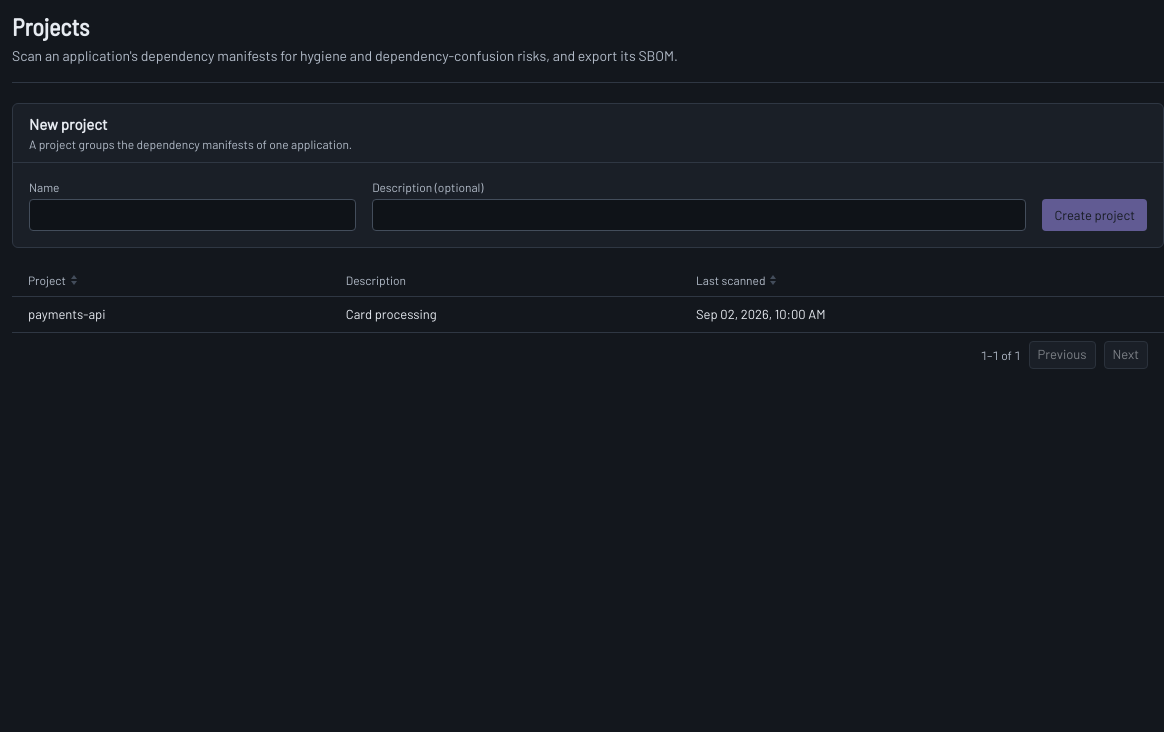
Test: Projects › lists projects and creates one for engineers
In the field labelled "Name": (193, 215) x1=29 y1=199 x2=356 y2=231, type "new-app"
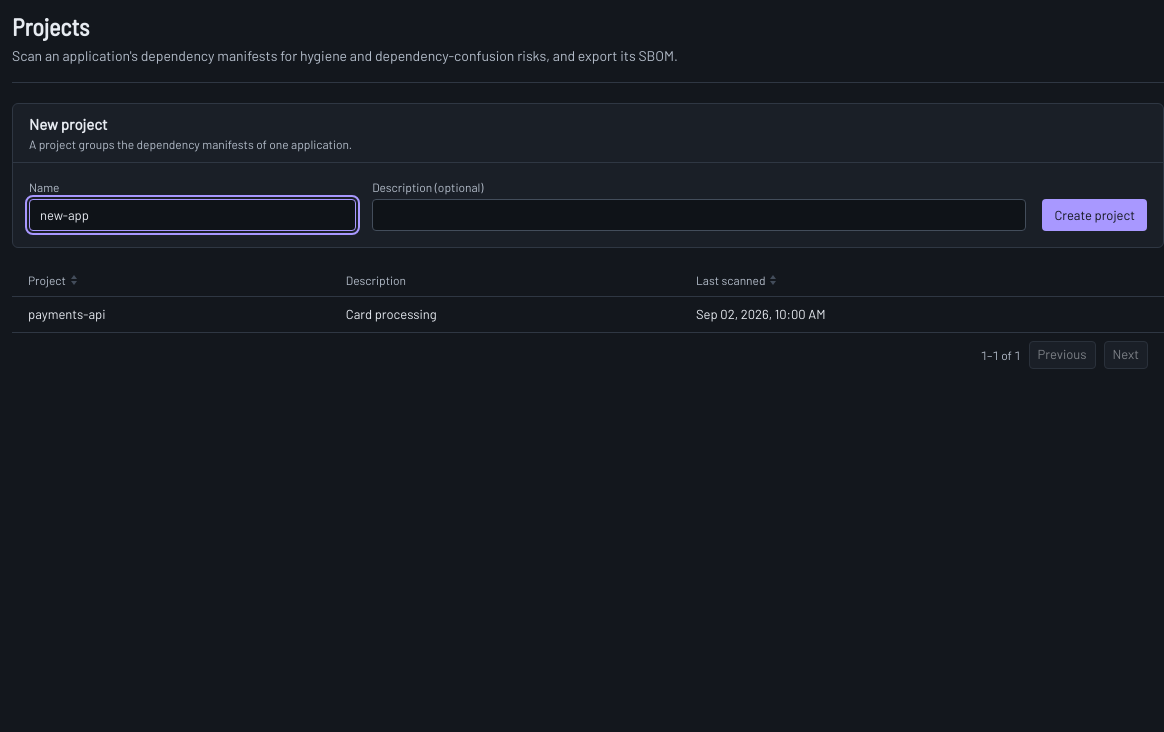
Click the button "Create project": (1095, 215) x1=1042 y1=199 x2=1147 y2=231
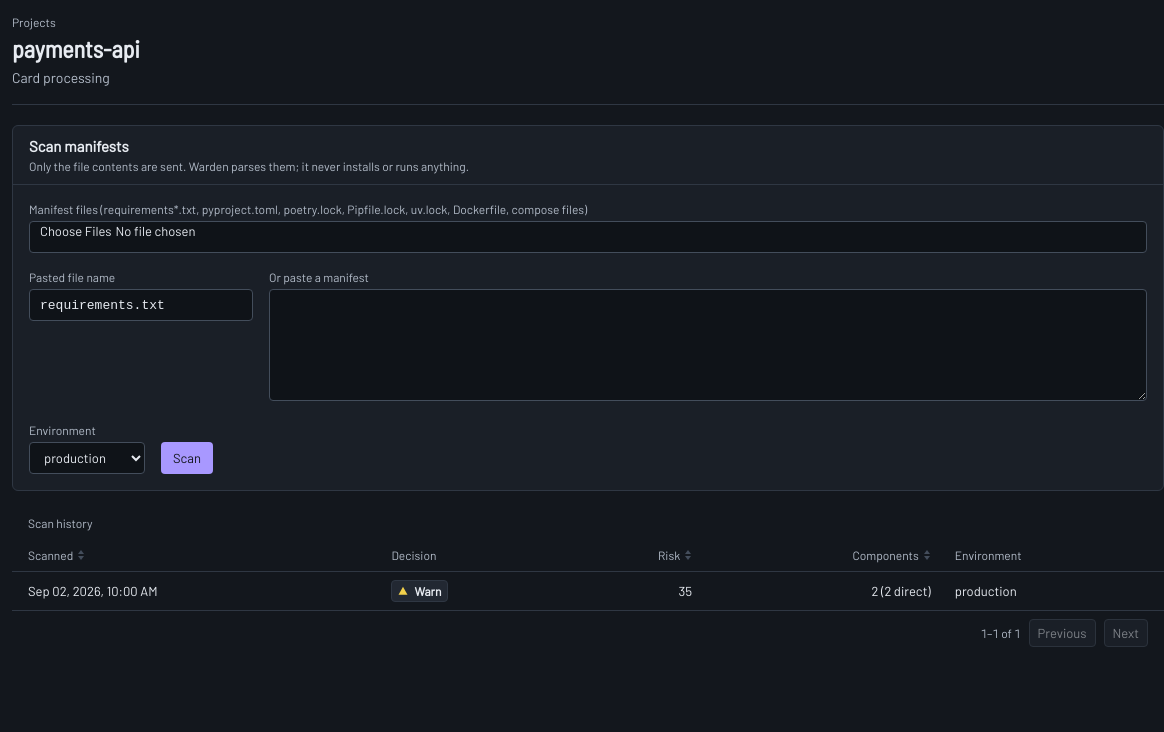
Now the heading "payments-api" is shown, box x1=12 y1=34 x2=140 y2=64
